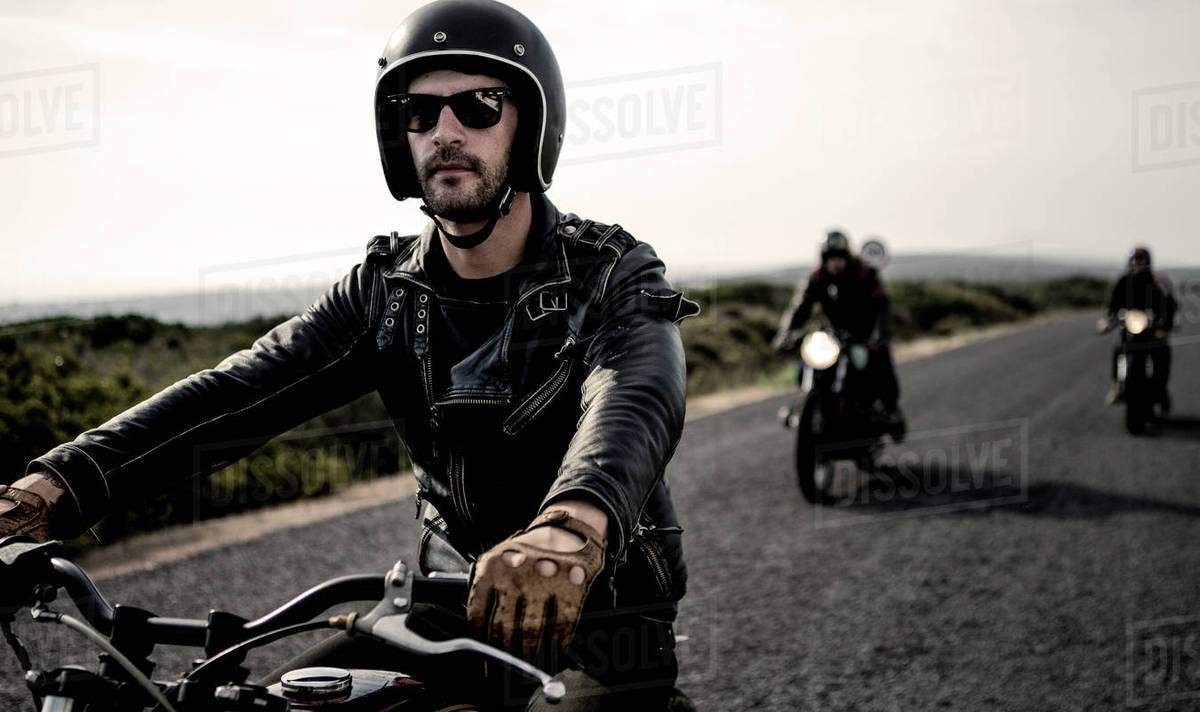with_helmet: (348, 6, 569, 188)
